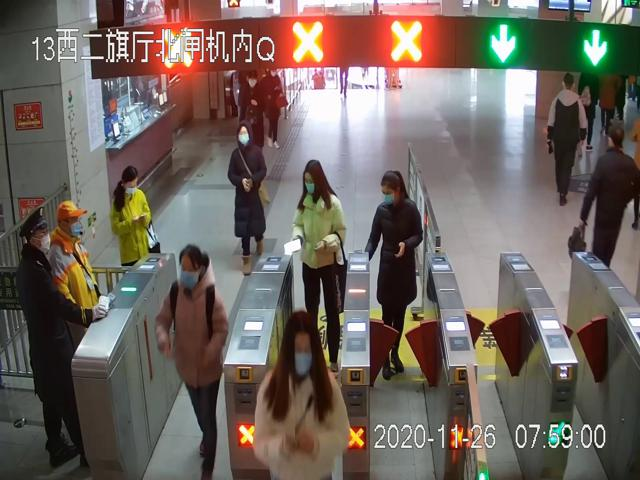person: (14, 207, 93, 466), (158, 241, 231, 480), (254, 312, 350, 480), (360, 159, 428, 377), (289, 148, 352, 371), (46, 194, 109, 341), (585, 120, 637, 276), (228, 117, 275, 282), (547, 68, 594, 210), (109, 165, 159, 266), (239, 68, 269, 157), (264, 65, 292, 153)
